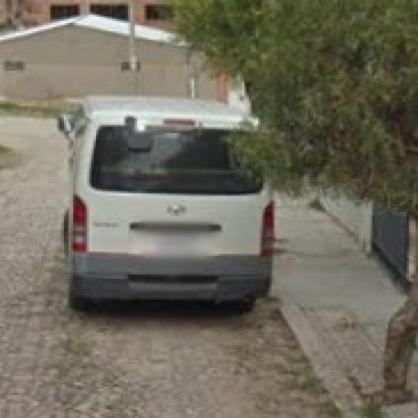car: (55, 95, 274, 319)
